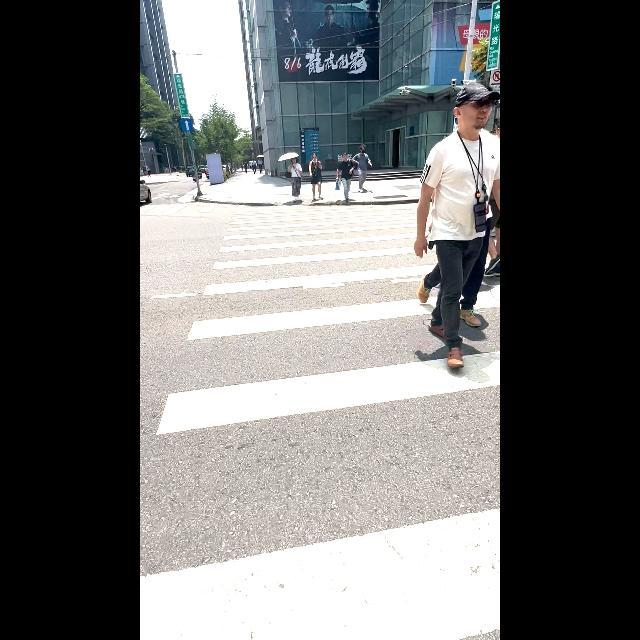sidewalk: (140, 201, 500, 640)
